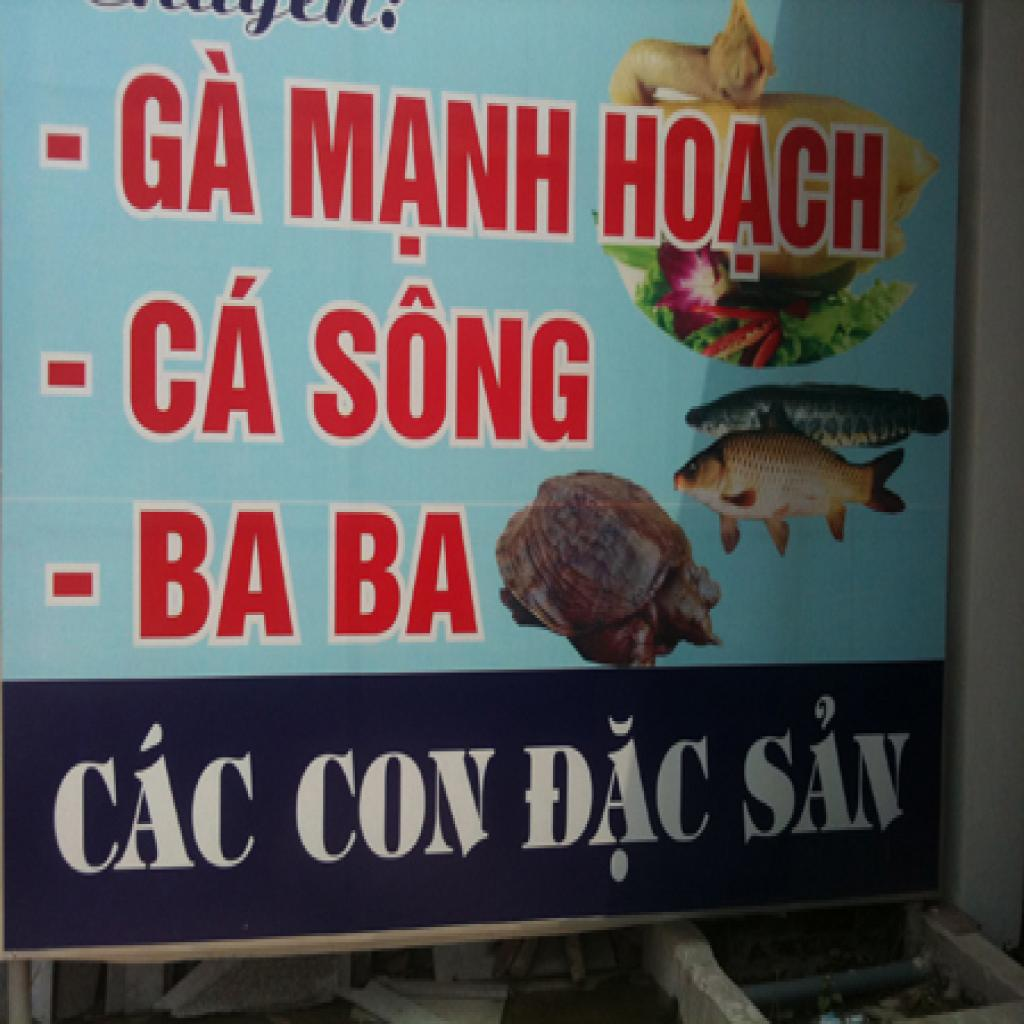text: (278, 72, 582, 272), (300, 272, 606, 460), (592, 100, 892, 282), (516, 712, 714, 891), (50, 718, 259, 885), (111, 264, 289, 452), (109, 34, 271, 230), (128, 494, 308, 654), (294, 742, 500, 870), (323, 497, 492, 651)
